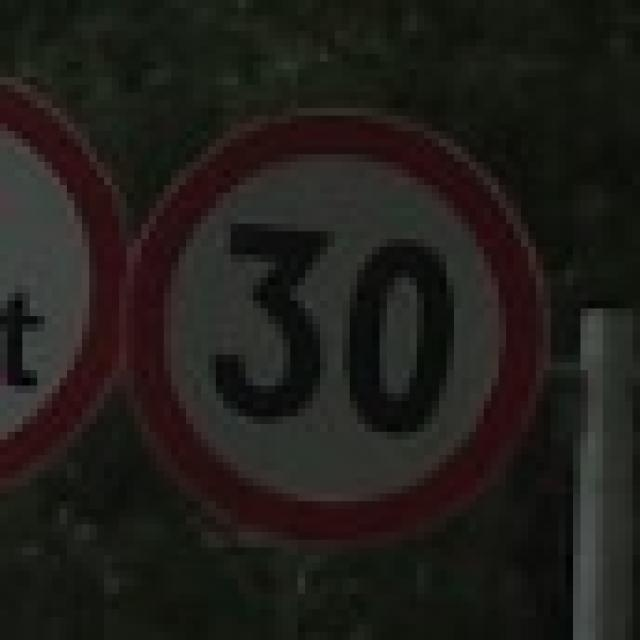Speed Limit -30-: (199, 217, 465, 444)
